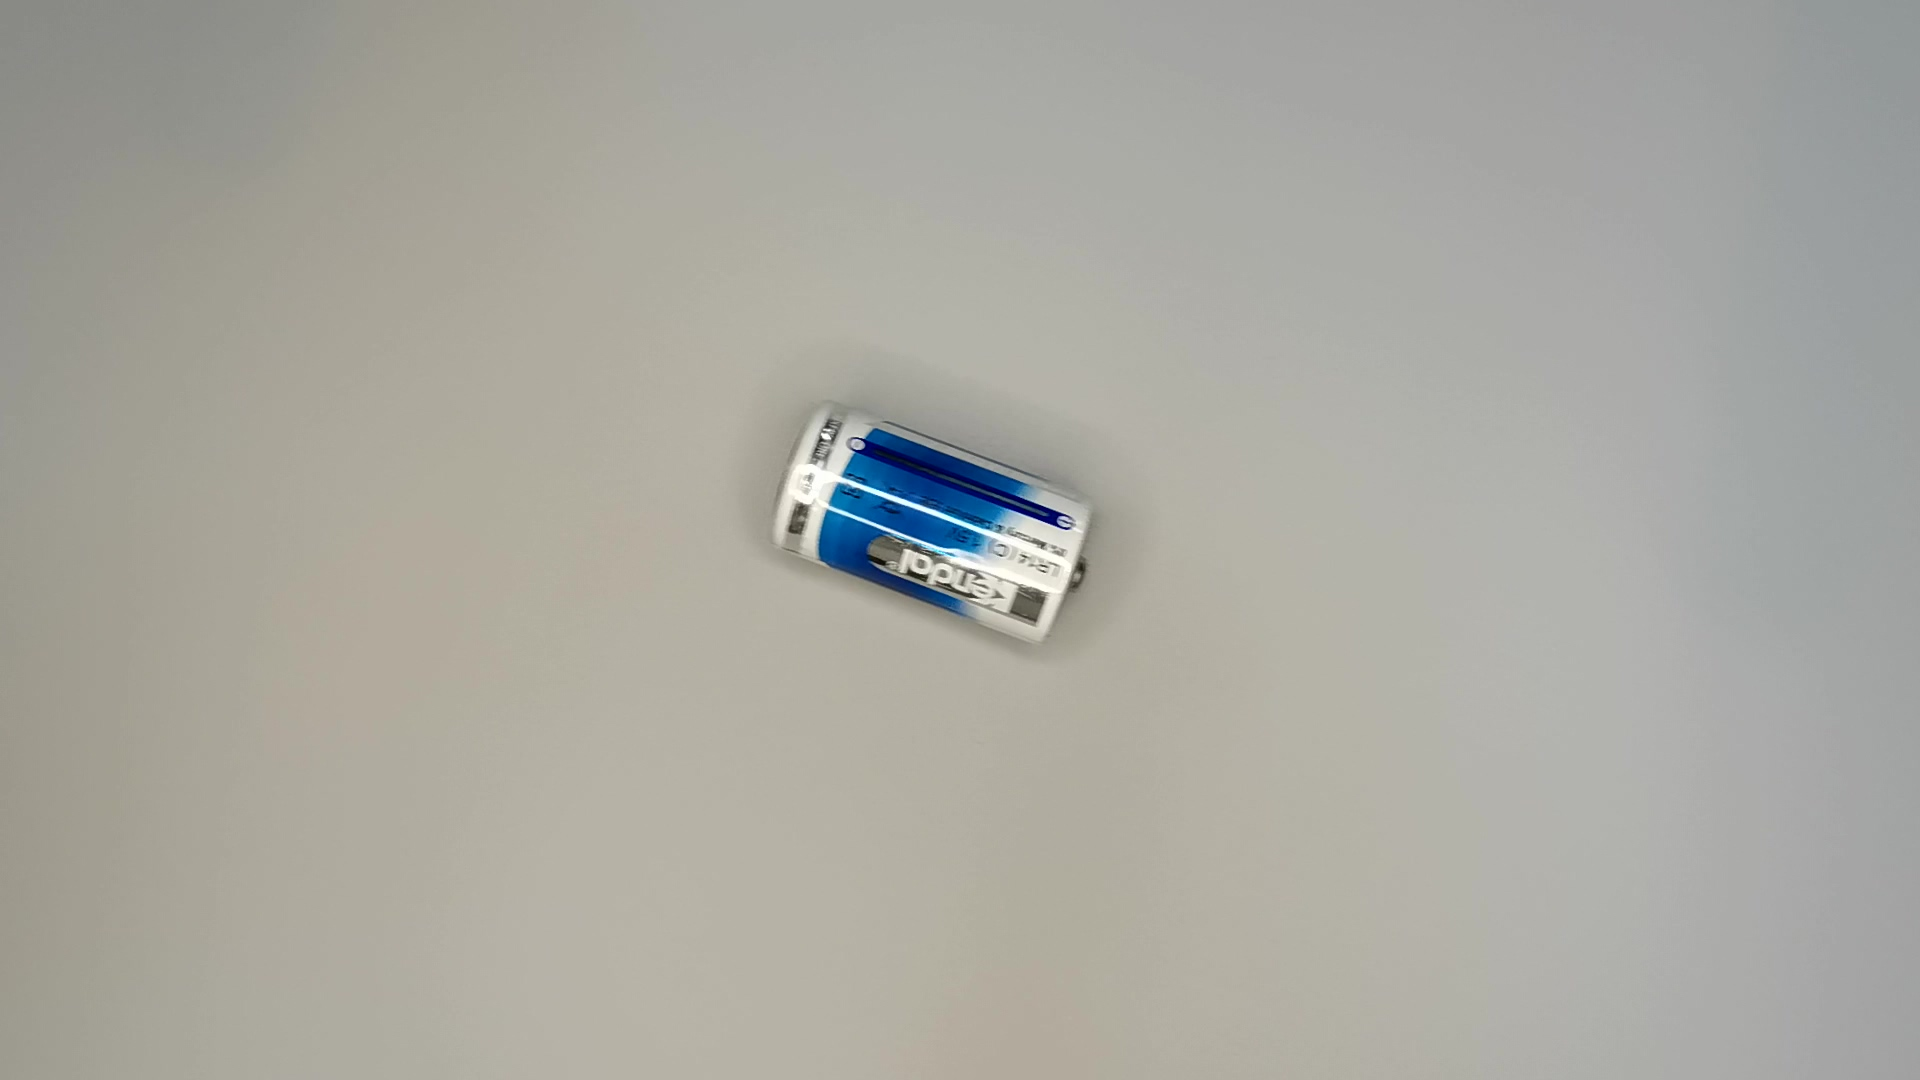battery: (767, 393, 1100, 658)
